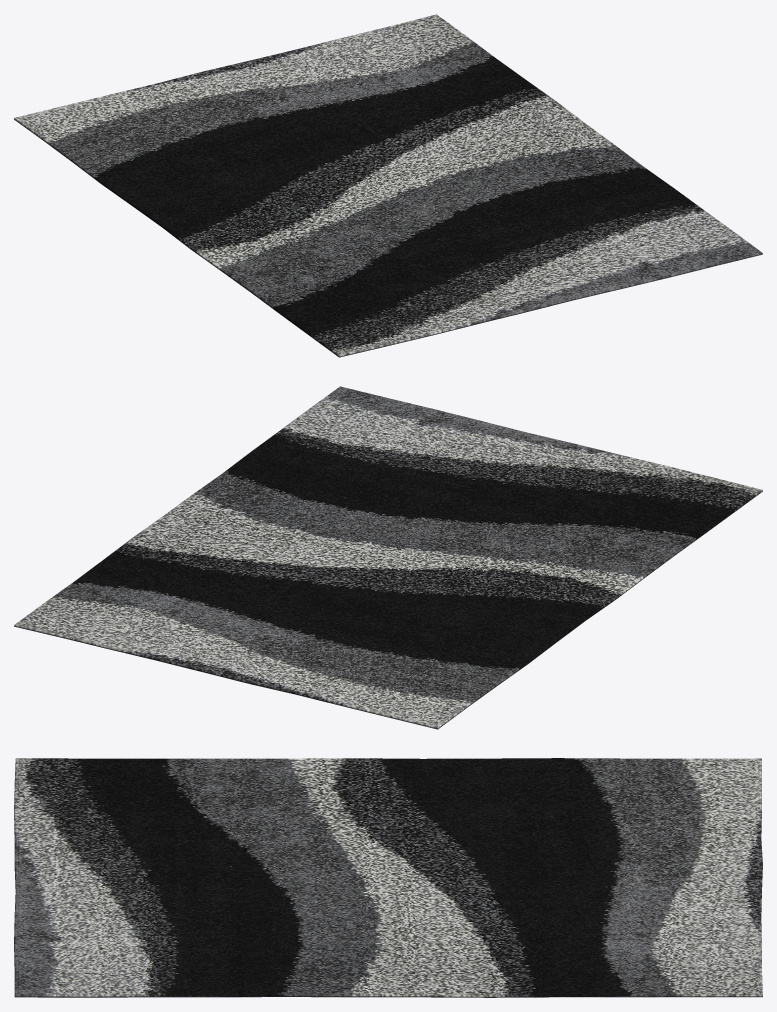
Rendered from carpet.glb.
The picture shows the model from 3 angles, top to bottom: view 1: azimuth 30°, elevation 25°; view 2: azimuth 150°, elevation 25°; view 3: azimuth 270°, elevation 25°; orthographic projection. The views are drawn at different scales.
Parts seen in each view (by area): view 1: carpet; view 2: carpet; view 3: carpet.
Part boxes in pixels (left/top/right/bottom): carpet: left=14, top=14, right=762, bottom=357; carpet: left=14, top=386, right=762, bottom=729; carpet: left=14, top=758, right=762, bottom=997.
Bounding box in the file's own units: 2.75 × 0.012 × 3.66.
Materials: 1 (1 with a texture image).
